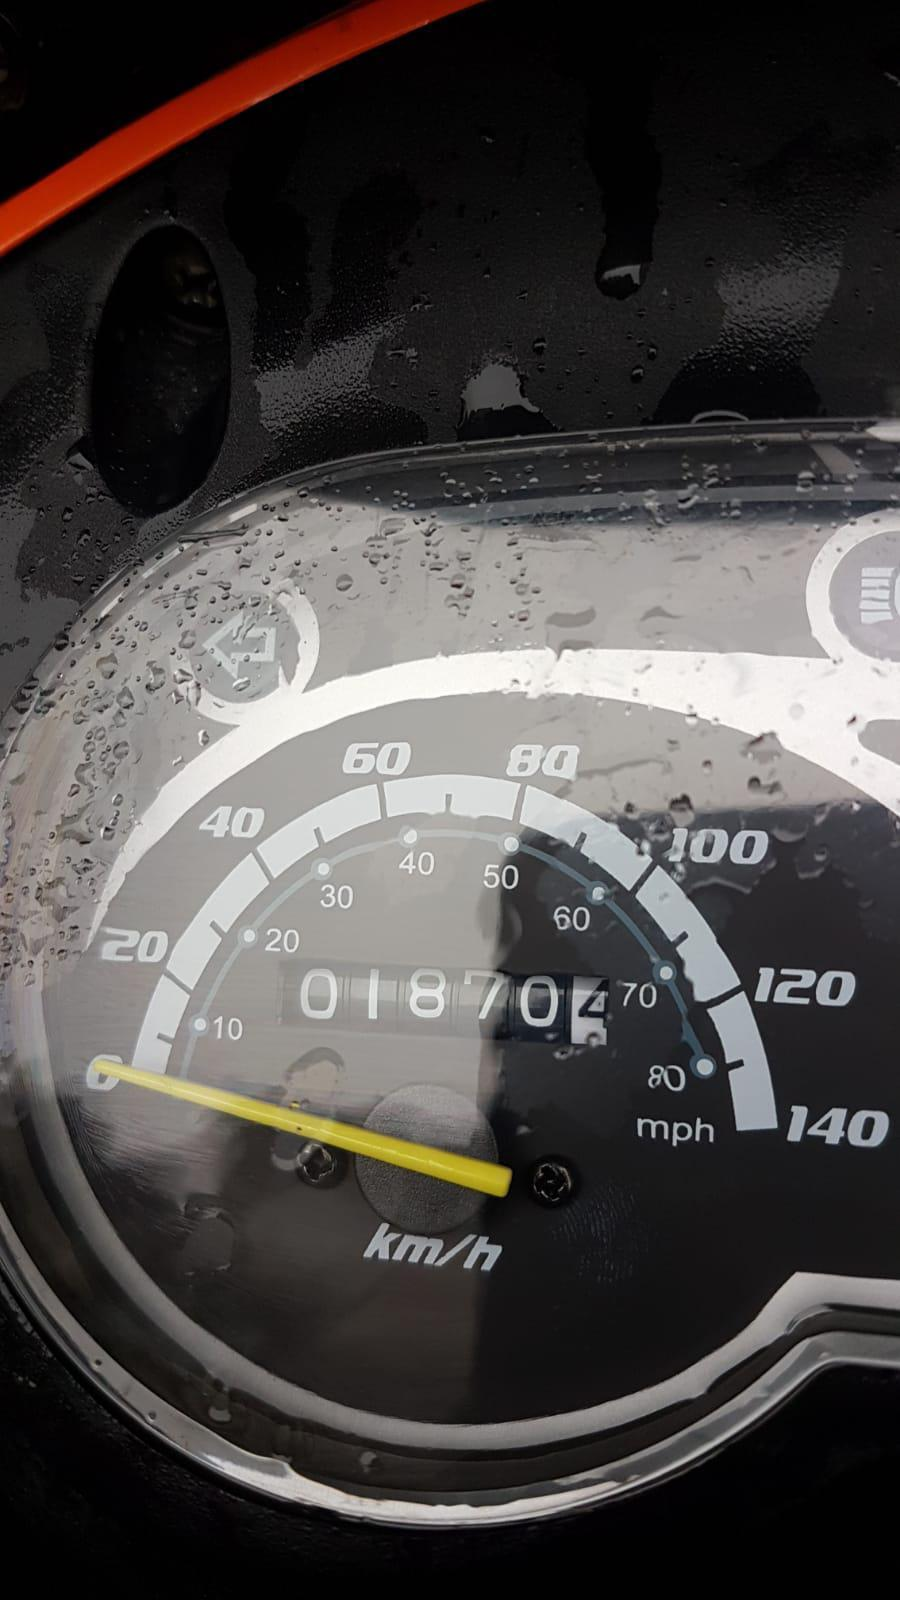0: (518, 973, 559, 1027), (298, 967, 338, 1019)
1: (366, 967, 380, 1020)
4: (577, 977, 613, 1027)
7: (462, 963, 507, 1024)
8: (407, 967, 446, 1018)
odometer: (273, 952, 615, 1048)
